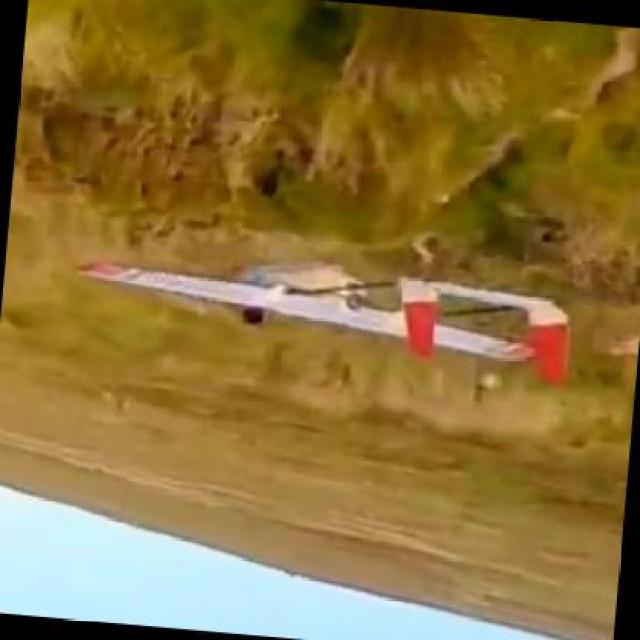iha: (66, 237, 578, 408)
